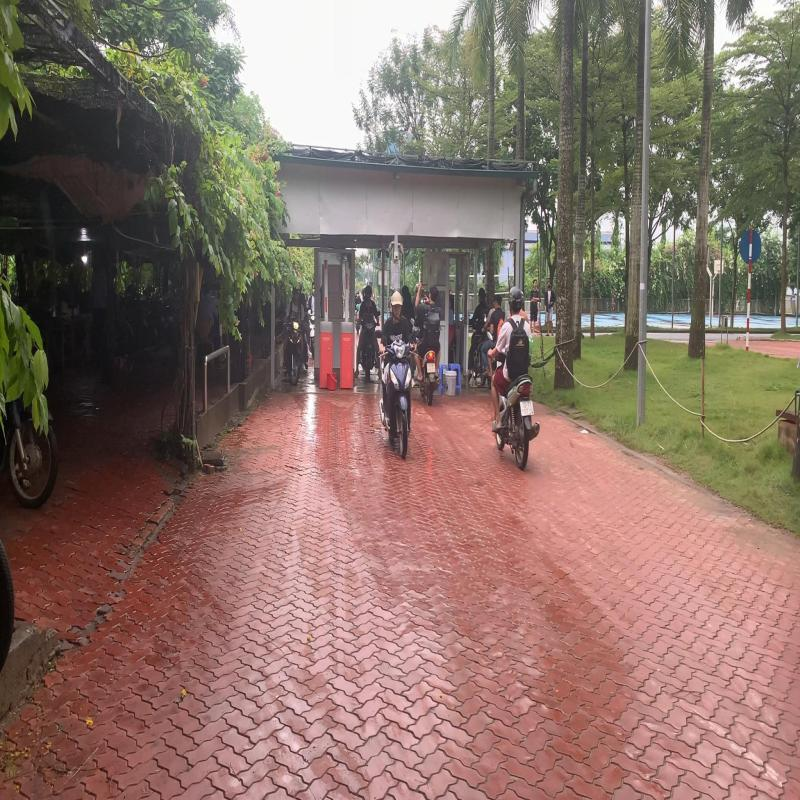nohelmet: (428, 284, 438, 304)
